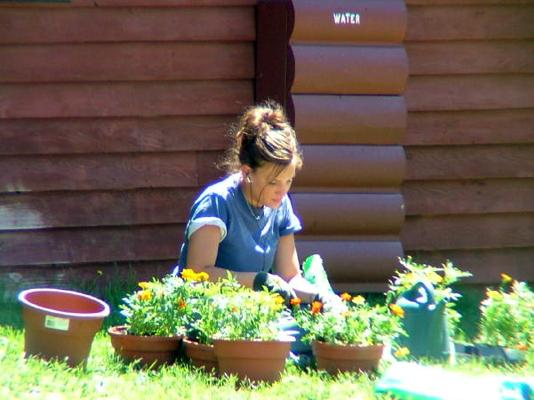person: (172, 107, 324, 311)
